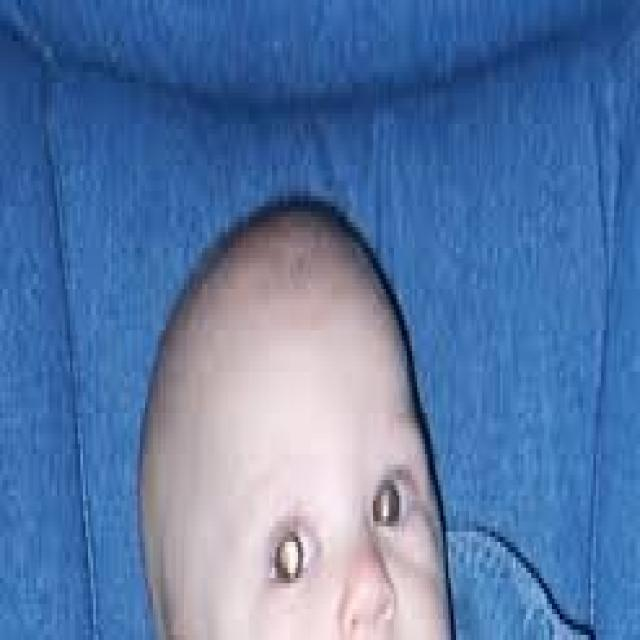reflexo-alterado: (256, 500, 325, 612), (361, 468, 423, 546)
